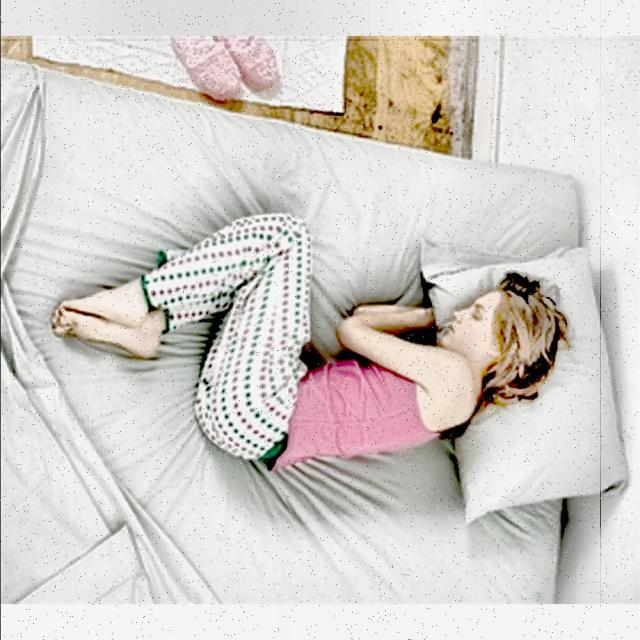Not_Supine: (52, 214, 569, 469)
